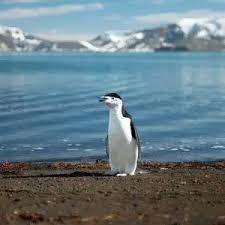chinstrap: (84, 78, 151, 190)
